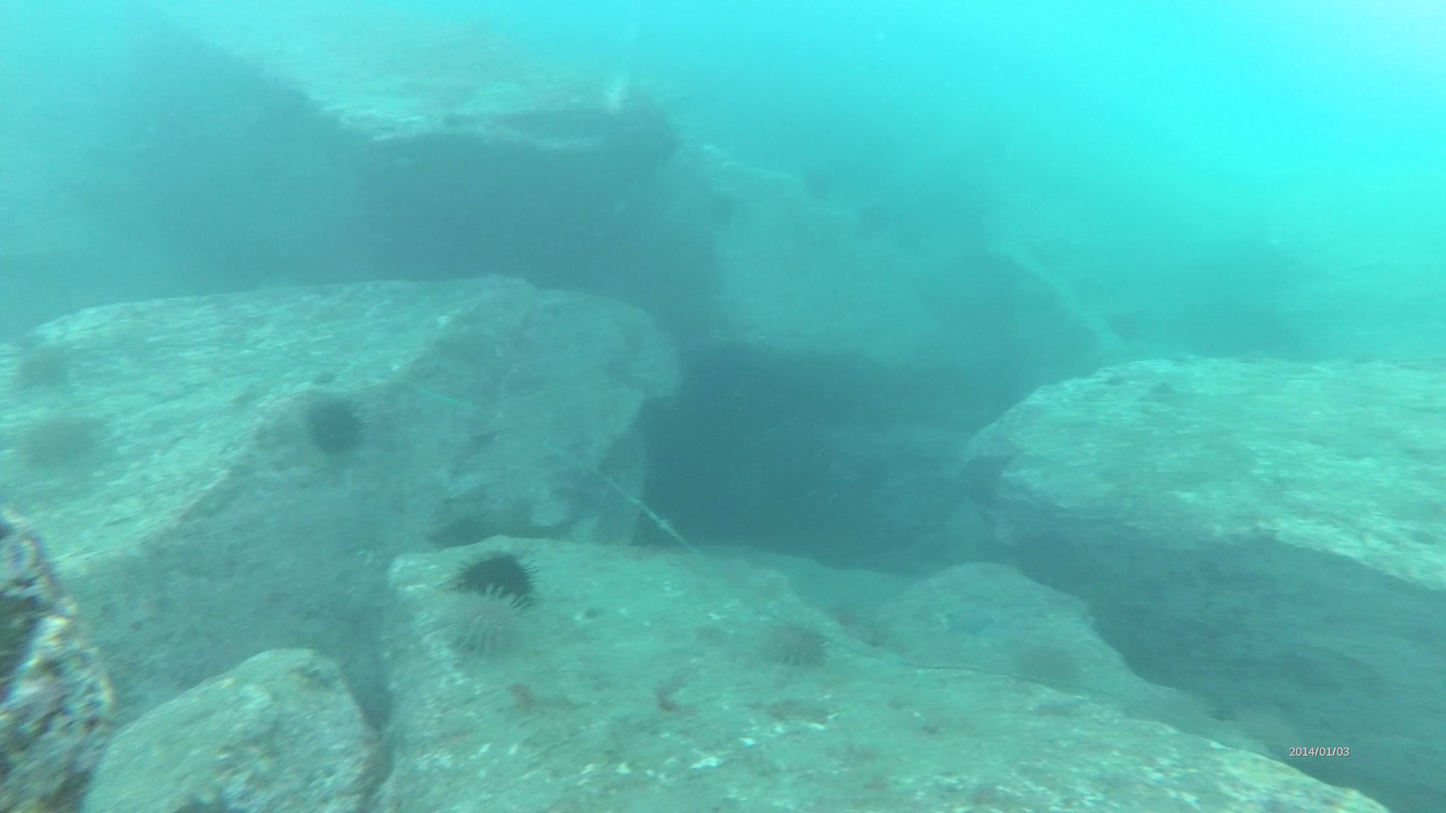starfish: (15, 410, 110, 480), (429, 591, 520, 656), (451, 547, 543, 606), (760, 614, 837, 674), (302, 394, 363, 458), (1015, 635, 1083, 687)
